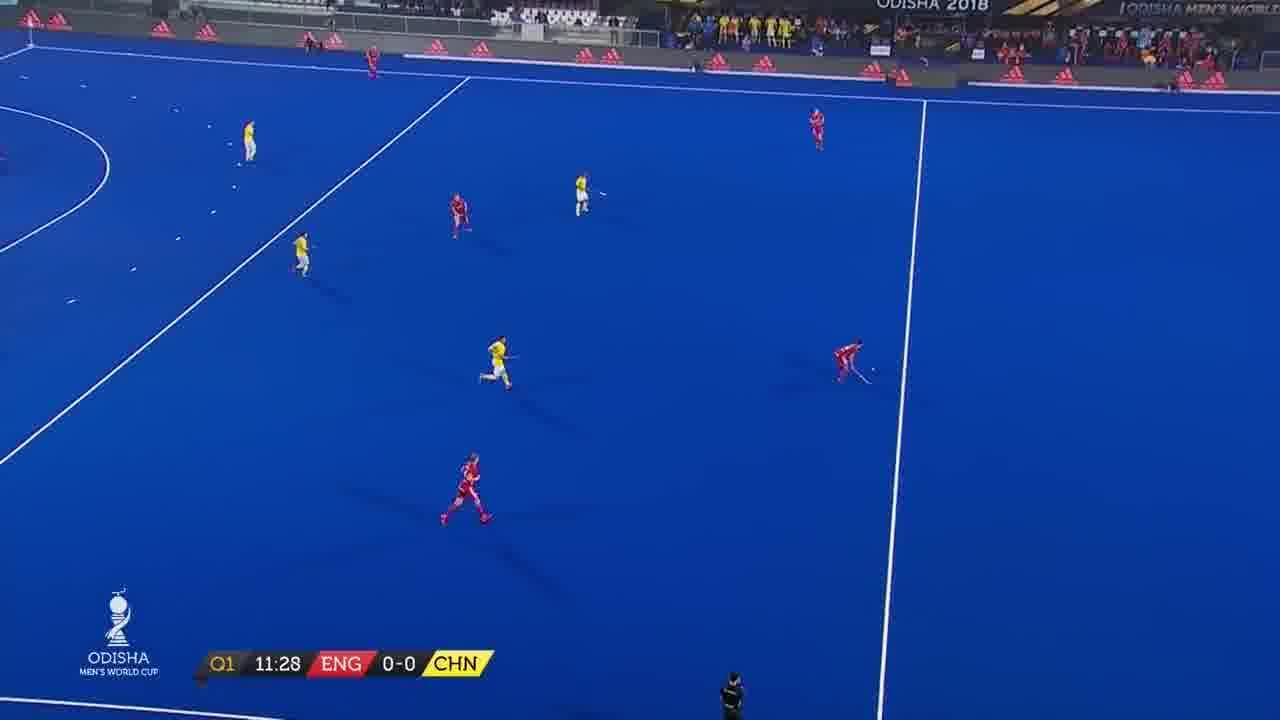ball: (869, 361, 880, 376)
